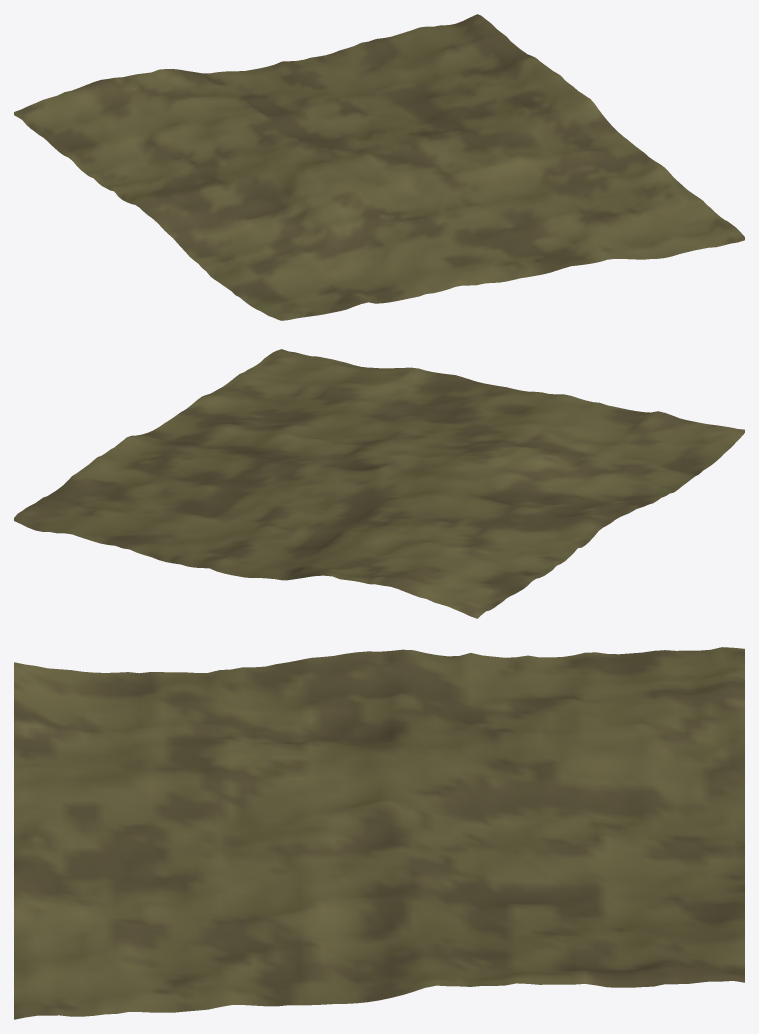
Rendered from land_f_03_02.glb.
3 views of the same model, one above another, from view 1: azimuth 30°, elevation 25°; view 2: azimuth 150°, elevation 25°; view 3: azimuth 270°, elevation 25° (orthographic). The views are drawn at different scales.
Parts seen in each view (by area): view 1: land_f_03_02; view 2: land_f_03_02; view 3: land_f_03_02.
Boxes of the visible parts, x1,y1,x2,y2 form: land_f_03_02: (14,14,744,320); land_f_03_02: (14,349,744,618); land_f_03_02: (14,647,744,1019).
Bounding box in the file's own units: 3840 × 464 × 3840.
